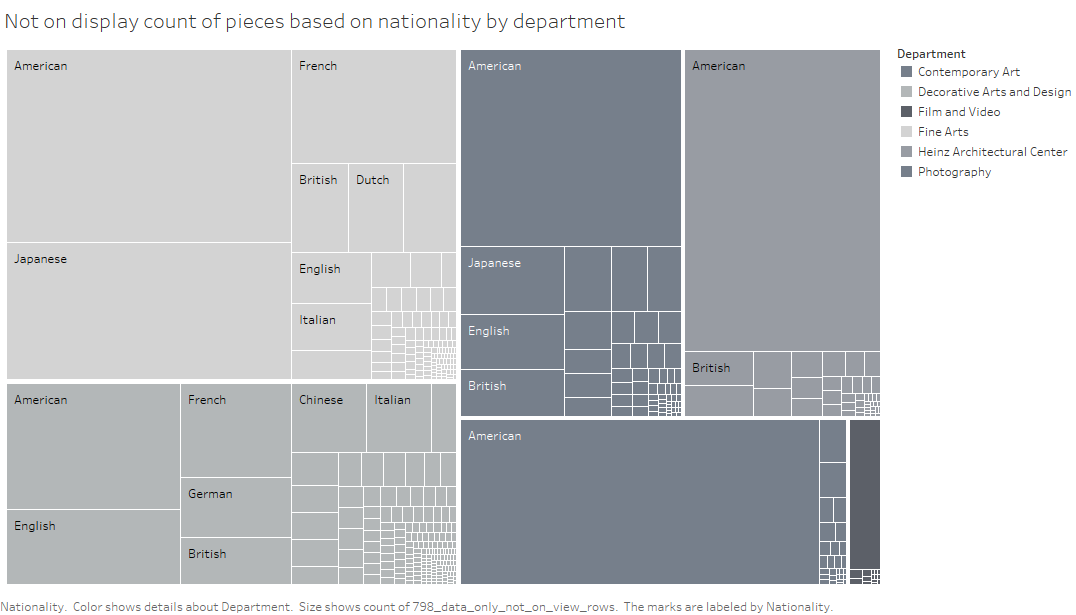

What the dashboard file says about the page in this screenshot:
{"tool":"tableau","page":{"name":"Dashboard 1","canvas":[1000,800],"ordinal":0},"visuals":[{"type":"worksheet","title":"Sheet 2","mark":"Automatic","rows":["798!data!only!not!on!view!rows_52761707DF0A46CA932B8A59ADC1F"],"cols":["date_acquired"],"box":[8,8,984,784]}]}

Visuals, with their boxes on the page's 1000x800 design canvas (x1, y1, x2, y2). These are canvas units, not pixel positions in the 1076x615 screenshot, which may show the page scaled, cropped or inside an application window:
"Sheet 2" worksheet: detection(8, 8, 992, 792)
